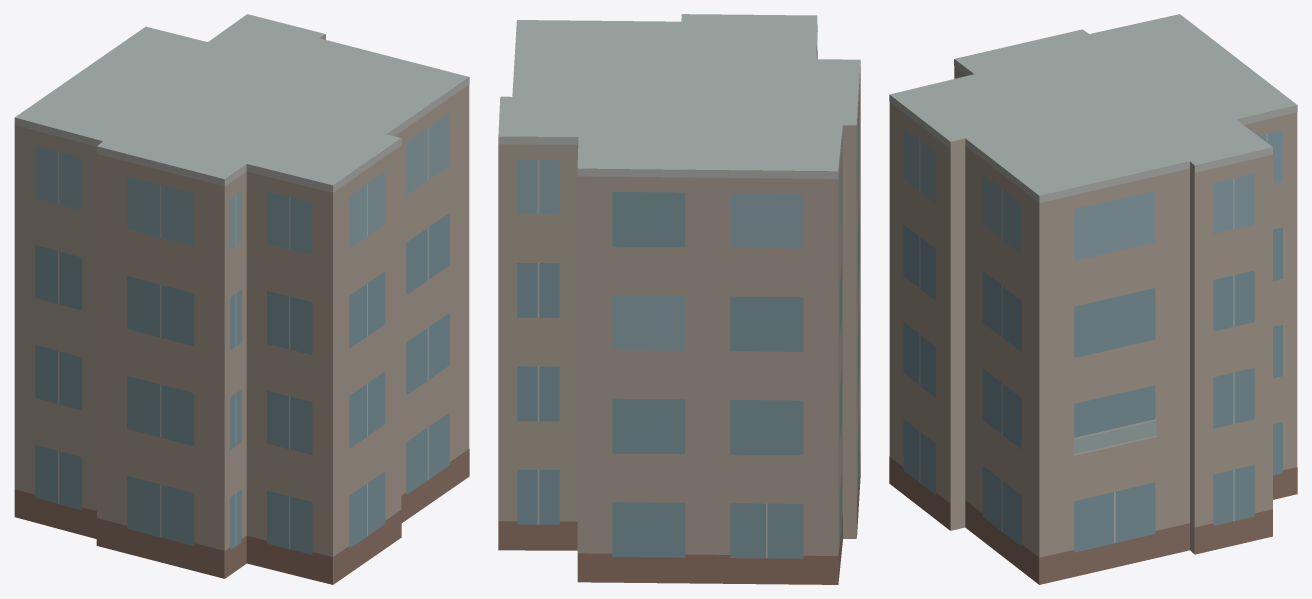
File: survey-upis-33006720.glb
3 views of the same model, side by side, from view 1: azimuth 30°, elevation 25°; view 2: azimuth 150°, elevation 25°; view 3: azimuth 270°, elevation 25° (orthographic). The views are drawn at different scales.
Parts seen in each view (by area): view 1: survey-upis-33006720.tmp; view 2: survey-upis-33006720.tmp; view 3: survey-upis-33006720.tmp.
Boxes of the visible parts, box(x1,y1,x2,y2) form: survey-upis-33006720.tmp: box(14, 14, 469, 584); survey-upis-33006720.tmp: box(498, 14, 860, 584); survey-upis-33006720.tmp: box(889, 14, 1297, 584).
Size of the model in its own units: 13.09 by 13.05 by 12.41.
